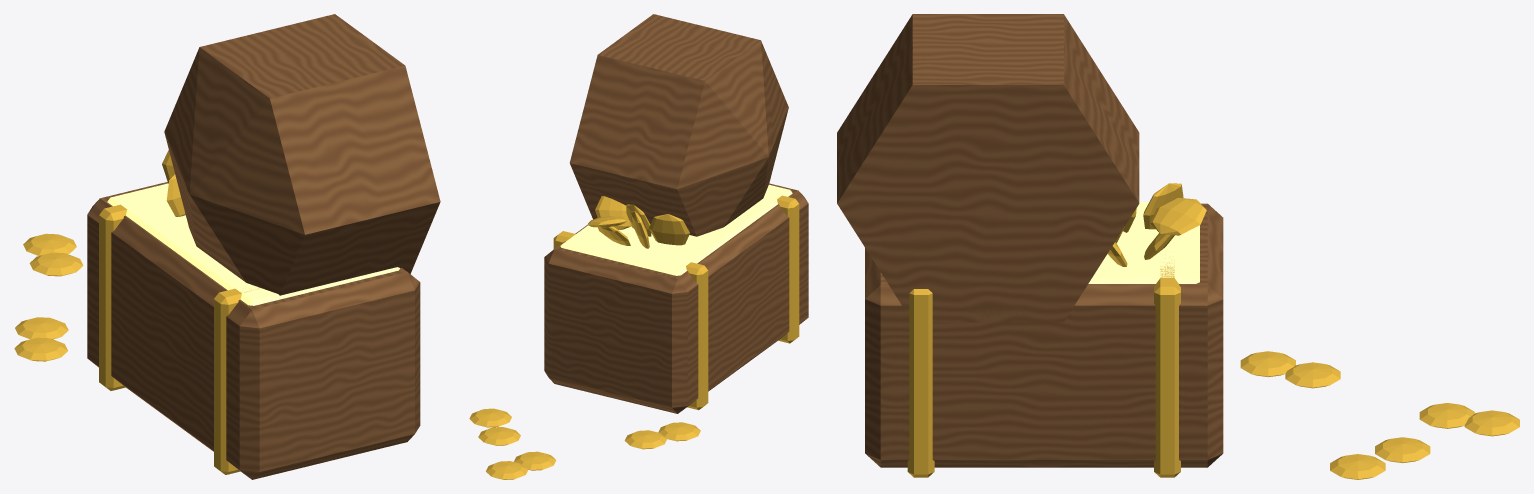
Rendered from TreasureChest.fbx.
3 views of the same model, side by side, from view 1: azimuth 30°, elevation 25°; view 2: azimuth 150°, elevation 25°; view 3: azimuth 270°, elevation 25° (orthographic). The views are drawn at different scales.
Parts seen in each view (by area): view 1: TreasureChest, TreasureChest_Glow; view 2: TreasureChest, TreasureChest_Glow; view 3: TreasureChest, TreasureChest_Glow.
Boxes of the visible parts, x1=… form: TreasureChest: x1=14, y1=14, x2=440, y2=479; TreasureChest_Glow: x1=107, y1=183, x2=399, y2=305; TreasureChest: x1=469, y1=14, x2=808, y2=479; TreasureChest_Glow: x1=560, y1=185, x2=792, y2=275; TreasureChest: x1=837, y1=14, x2=1519, y2=479; TreasureChest_Glow: x1=1088, y1=202, x2=1199, y2=283.
Bounding box in the file's own units: 135 × 194 × 305.
2 materials, 1 textured.
